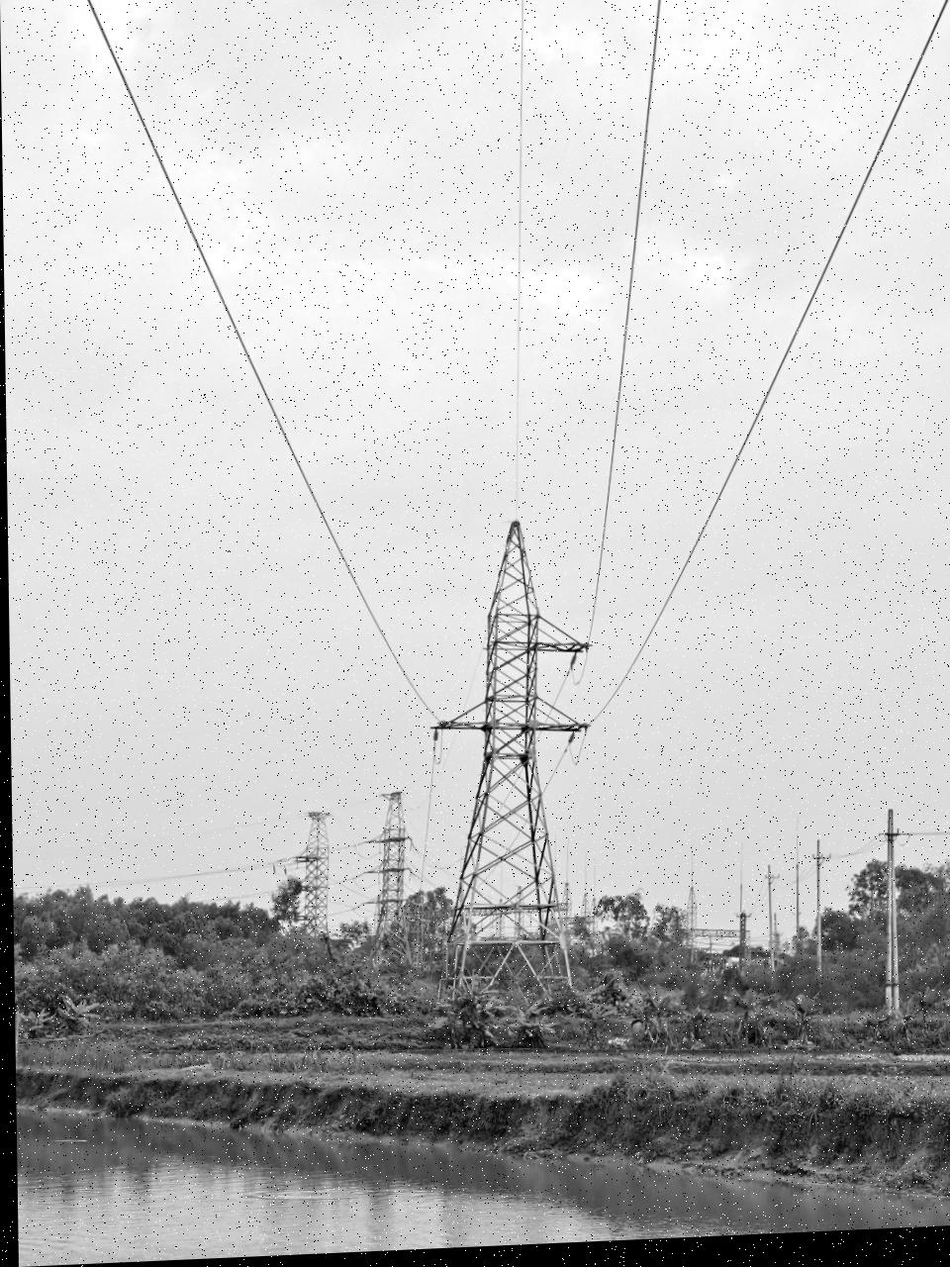tower: (417, 508, 615, 1042)
